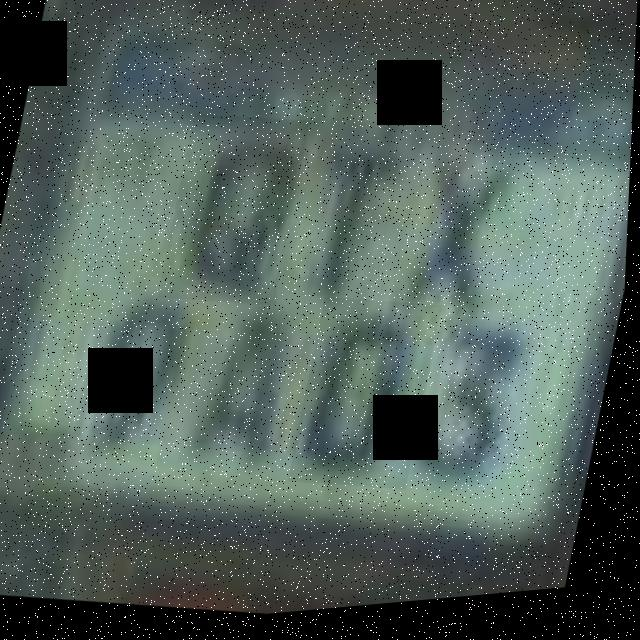0: (292, 295, 446, 506)
3: (388, 302, 553, 505)
9: (67, 268, 216, 486)
A: (173, 284, 333, 499)
Q: (160, 108, 314, 319)
T: (276, 115, 428, 317)
X: (375, 127, 542, 341)
